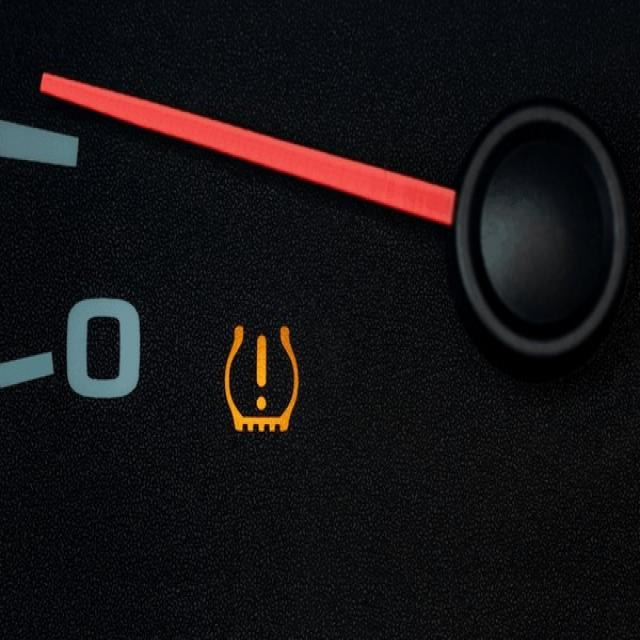kontrolka: (218, 311, 306, 443)
